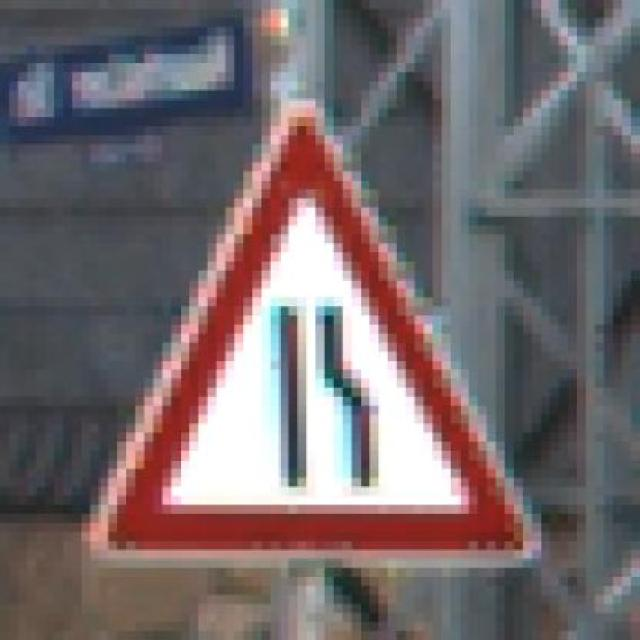-Road narrows on right: (63, 99, 568, 576)
